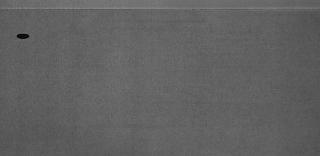punching hole: (15, 32, 31, 40)
welding line: (1, 5, 318, 13)
